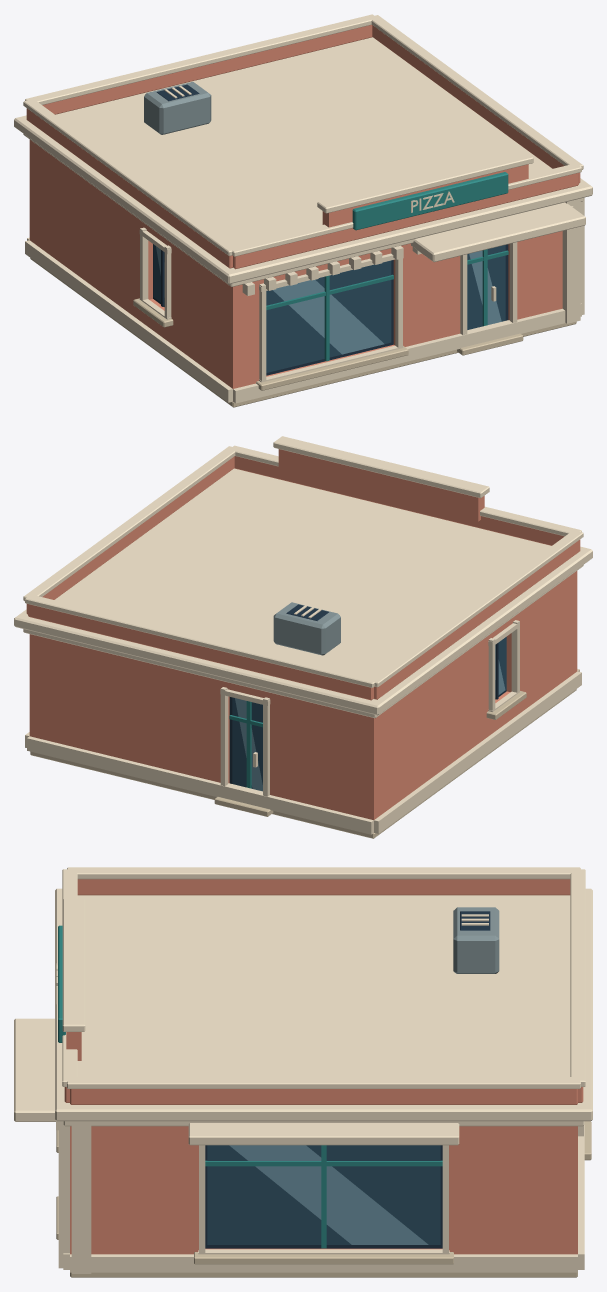
File: pizza_shop.glb
3 views of the same model, one above another, from view 1: azimuth 30°, elevation 25°; view 2: azimuth 150°, elevation 25°; view 3: azimuth 270°, elevation 25° (orthographic). The views are drawn at different scales.
Visible parts, largest first — view 1: PizzaShop_StaticMesh; view 2: PizzaShop_StaticMesh; view 3: PizzaShop_StaticMesh.
Part boxes in pixels (box(x1,y1,x2,y2)): PizzaShop_StaticMesh: box(14, 14, 592, 407); PizzaShop_StaticMesh: box(14, 436, 592, 838); PizzaShop_StaticMesh: box(14, 867, 592, 1277).
Bounding box in the file's own units: 9.53 × 4.3 × 10.03.
